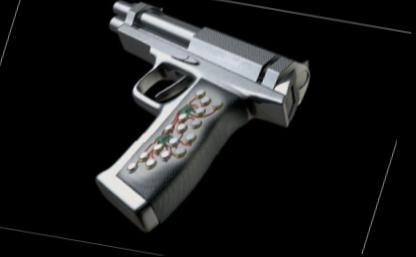pistol: (47, 0, 329, 250)
